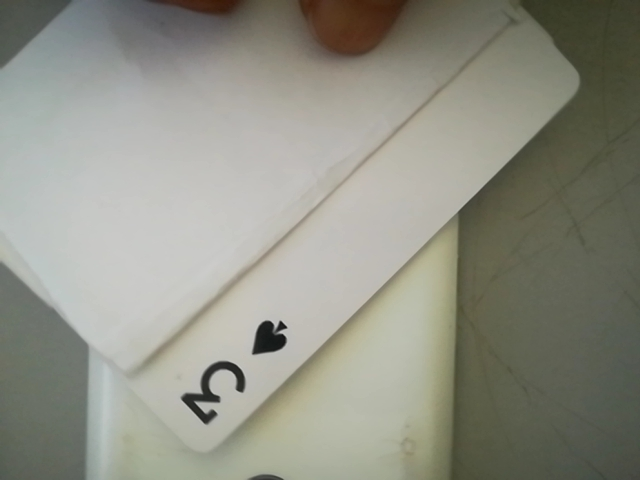ht 3: (156, 308, 302, 433)
